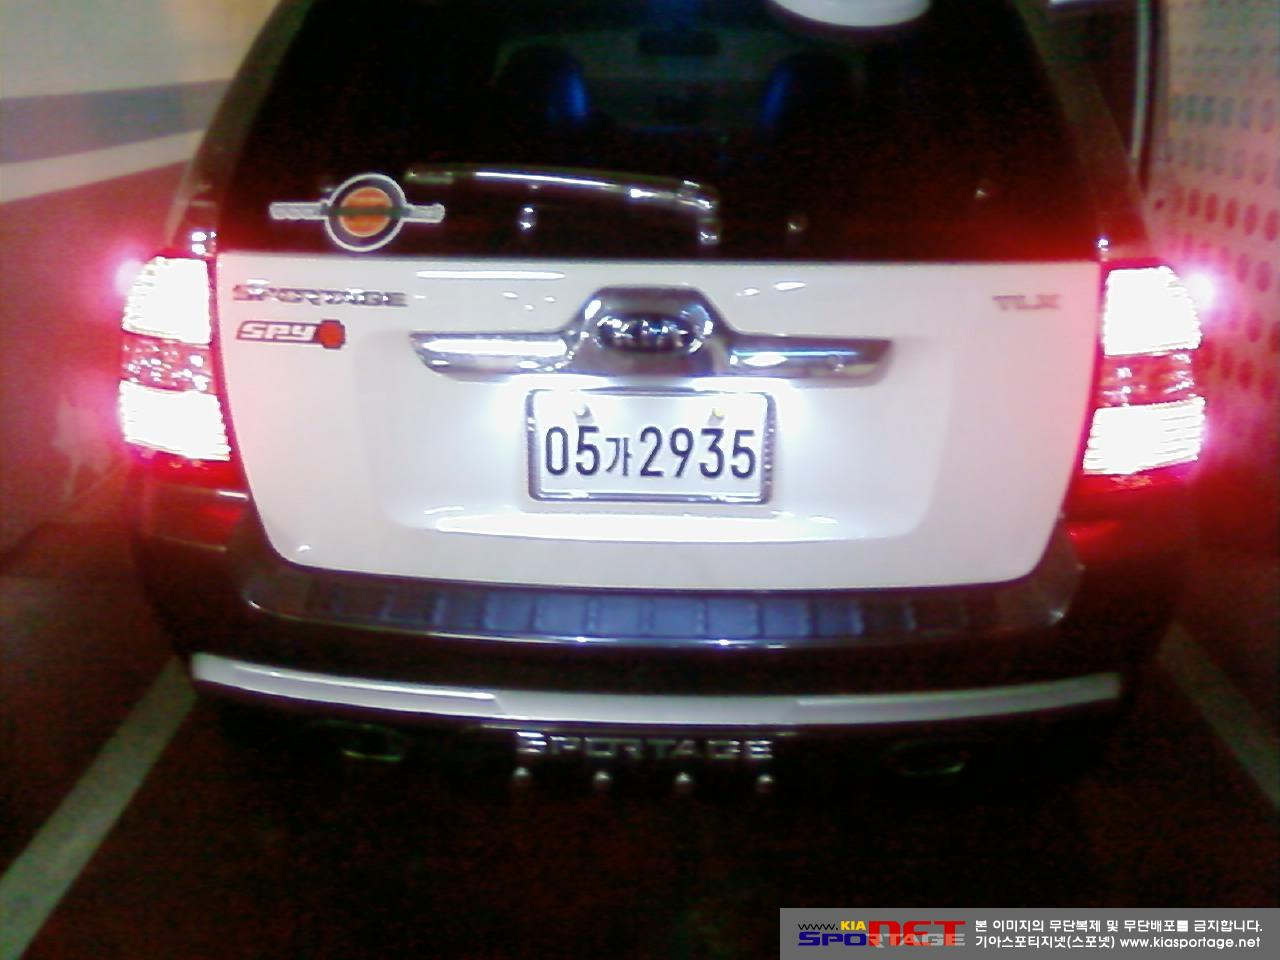plate: (532, 393, 763, 498)
